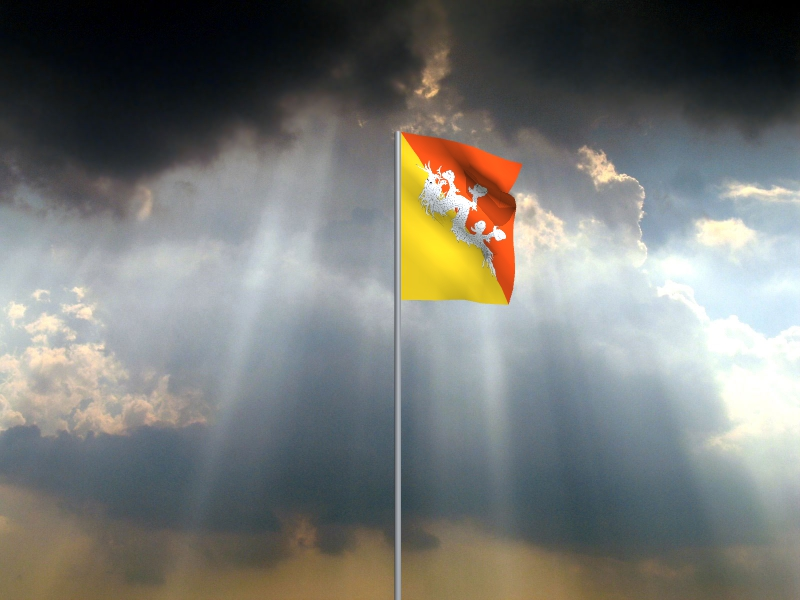bt: (401, 133, 524, 306)
